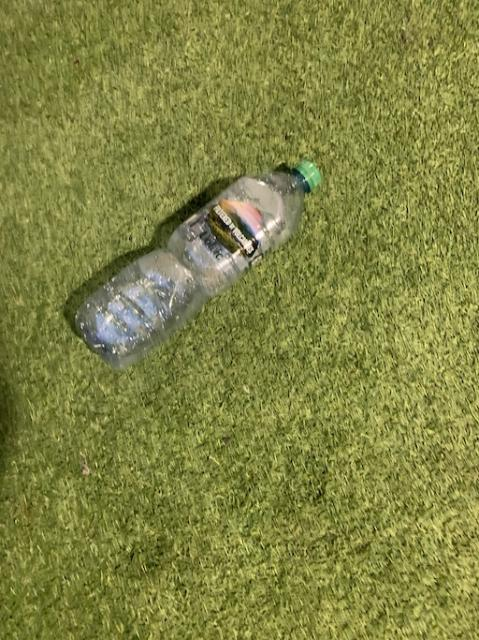plastic: (75, 159, 320, 366)
